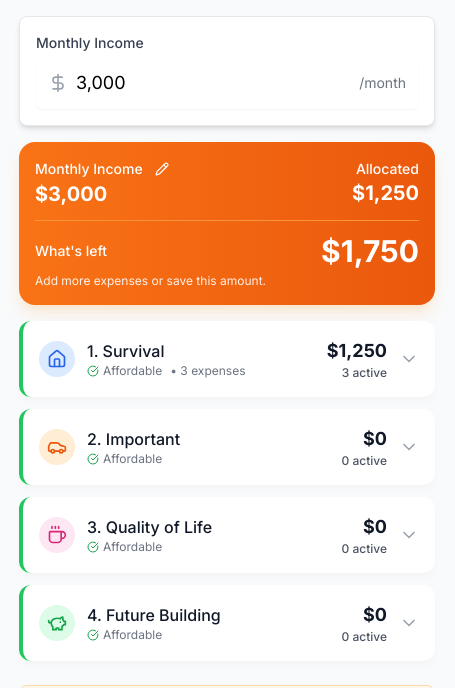
Test: BudgetApp - Budget Calculation Logic › Priority Expansion › should show expenses when expanded with initial data
What coordinates should you click on to do the following:
click the button "1. Survival Affordable • 3 expenses $1,250 3 active"
I would click on:
 (57, 359)
Its box is [23,321,435,397].
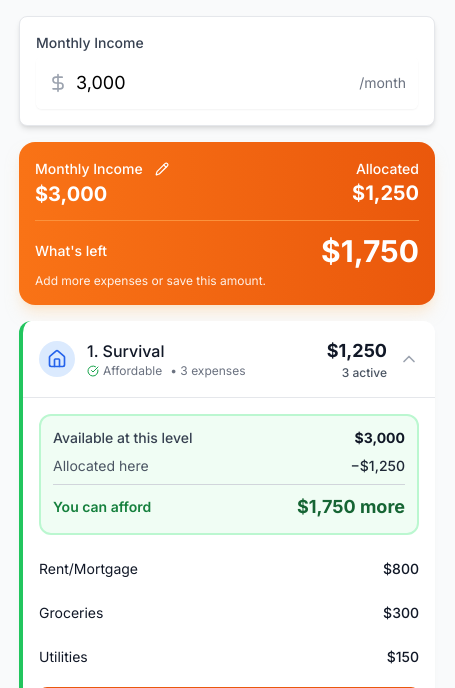
Now the text "Rent/Mortgage" is shown, box [39,559,138,579]
Now the text "Groceries" is shown, box [39,603,103,623]
Now the text "Utilities" is shown, box [39,647,88,667]
